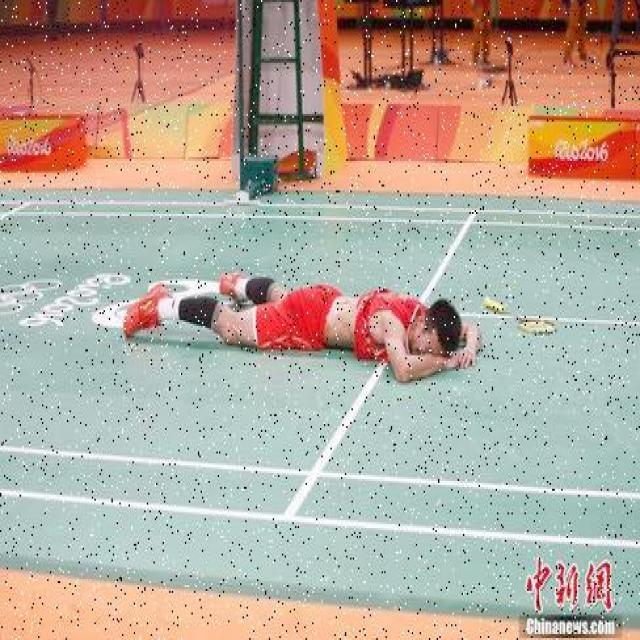fall: (126, 259, 475, 375)
